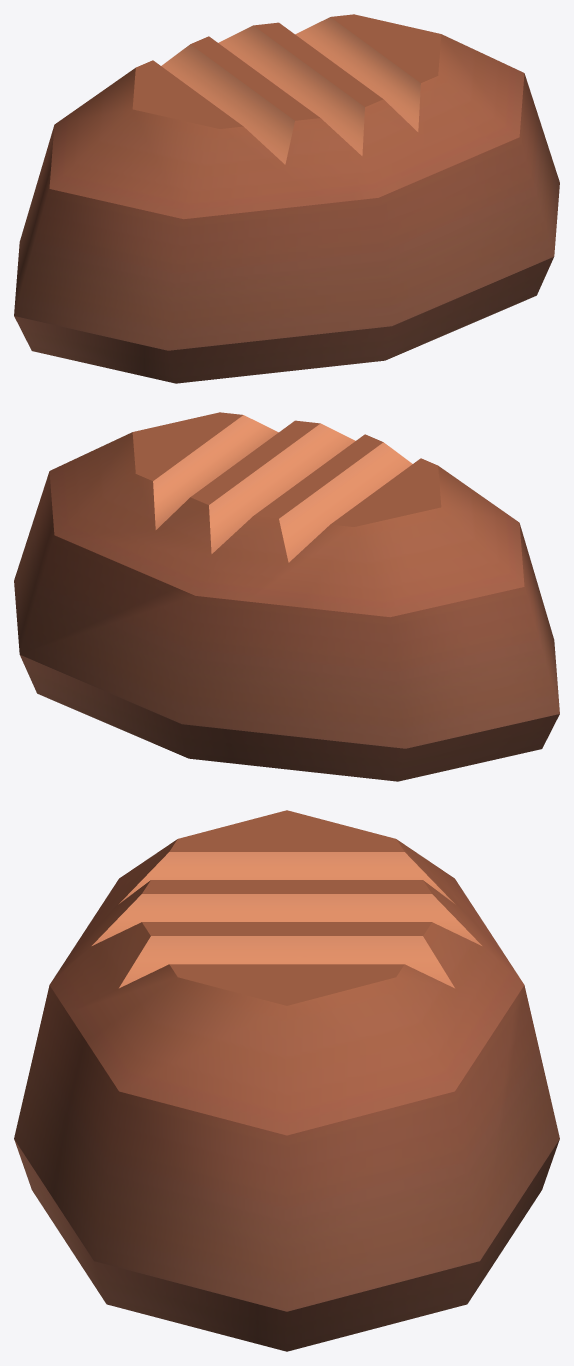
File: kenney-food-loaf-round.glb
The picture shows the model from 3 angles, top to bottom: view 1: azimuth 30°, elevation 25°; view 2: azimuth 150°, elevation 25°; view 3: azimuth 270°, elevation 25°; orthographic projection. The views are drawn at different scales.
Parts seen in each view (by area): view 1: loaf-round; view 2: loaf-round; view 3: loaf-round.
Part boxes in pixels (x1,y1,x2,y2): loaf-round: (14,14,559,383); loaf-round: (14,412,559,781); loaf-round: (14,810,559,1351).
Size of the model in its own units: 0.7717 by 0.2932 by 0.5145.
1 material, 1 textured.
